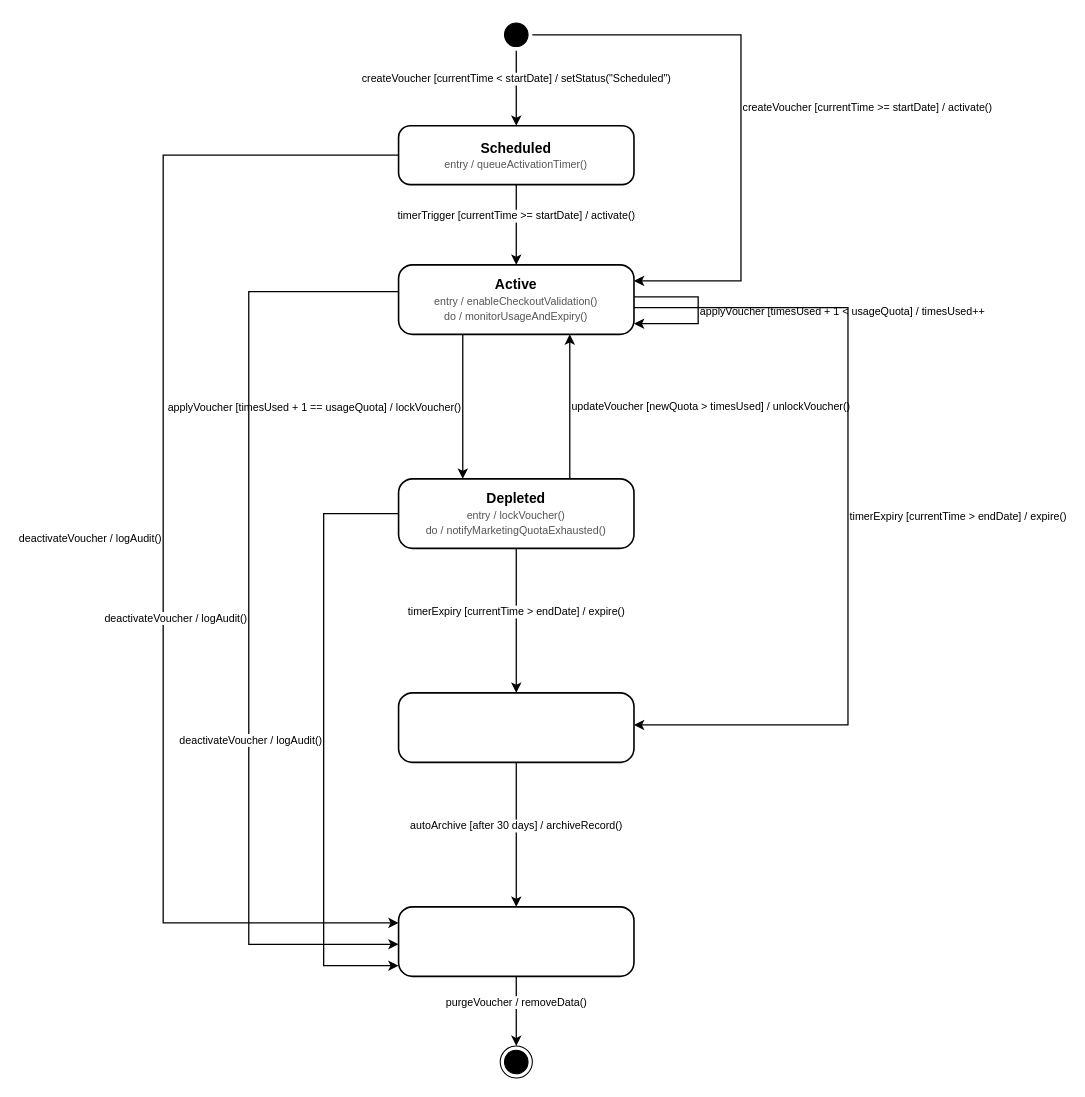
This 1085x1097 diagram has some shape labels left out. Each missing label, with the centre of its shape:
"Archived entry / moveToArchiveStorage() entry / logAuditRecord()" belongs at (x=515, y=941).
"Expired entry / expire() entry / scheduleAutoArchive(30d)" belongs at (x=515, y=727).
